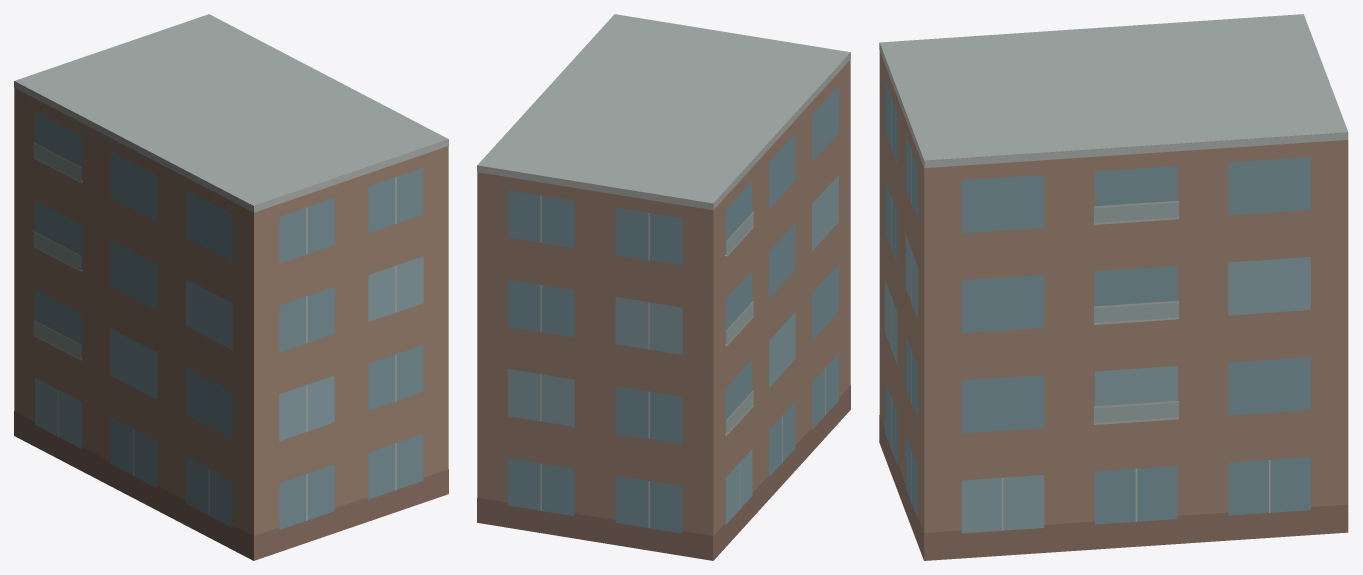
The model's file is survey-upis-32914114.glb.
The picture shows the model from 3 angles, left to right: view 1: azimuth 30°, elevation 25°; view 2: azimuth 150°, elevation 25°; view 3: azimuth 270°, elevation 25°; orthographic projection. The views are drawn at different scales.
Parts seen in each view (by area): view 1: survey-upis-32914114.tmp; view 2: survey-upis-32914114.tmp; view 3: survey-upis-32914114.tmp.
Part boxes in pixels (box(x1,y1,x2,y2)): survey-upis-32914114.tmp: box(14, 14, 448, 560); survey-upis-32914114.tmp: box(477, 14, 850, 560); survey-upis-32914114.tmp: box(879, 14, 1348, 560).
Bounding box in the file's own units: 10.06 × 12.8 × 13.6.
